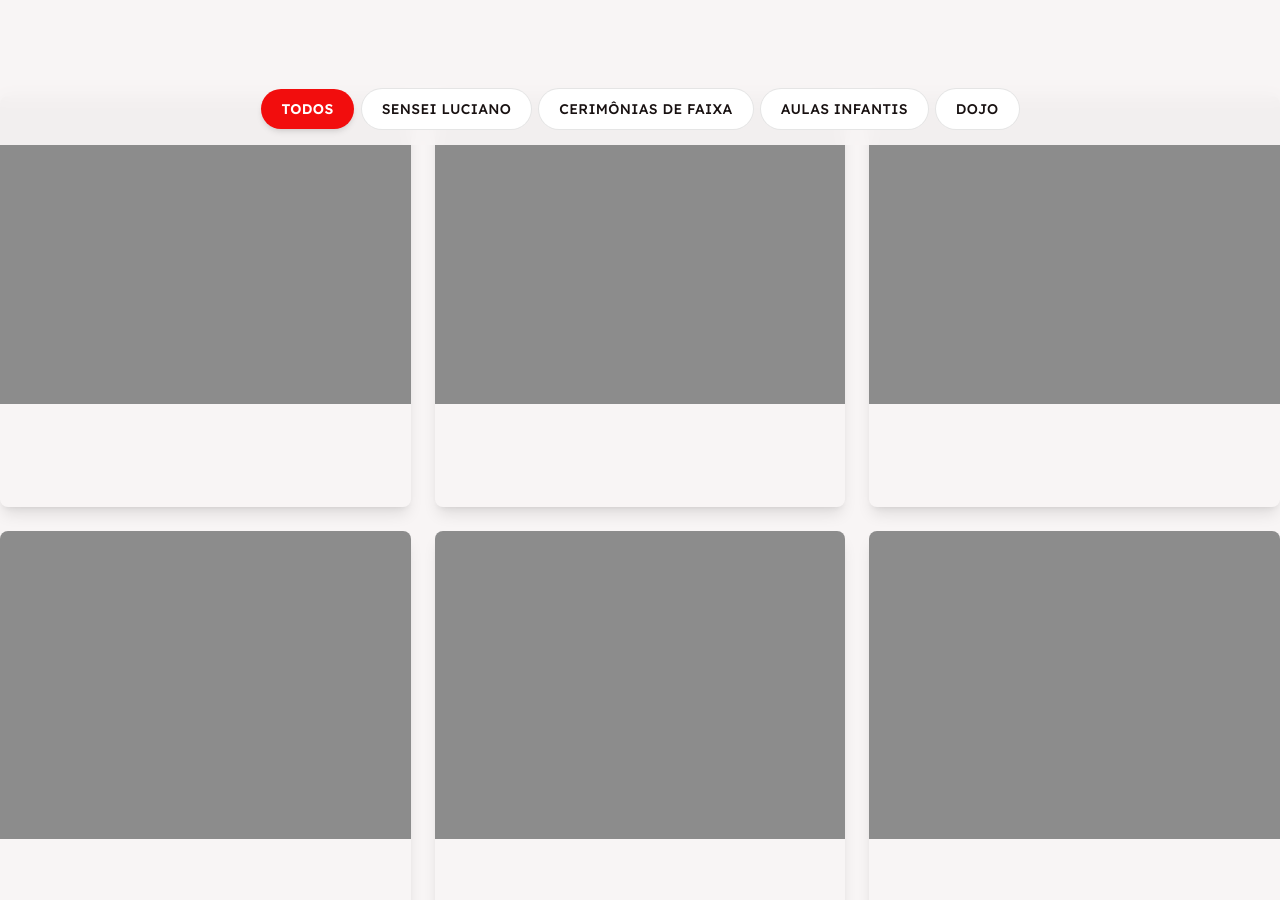
Test: GalleryMasonryGrid › after clicking Todos, all items return
Click the button with aria-label "mostrar aulas infantis": (844, 109) [761,89,928,129]
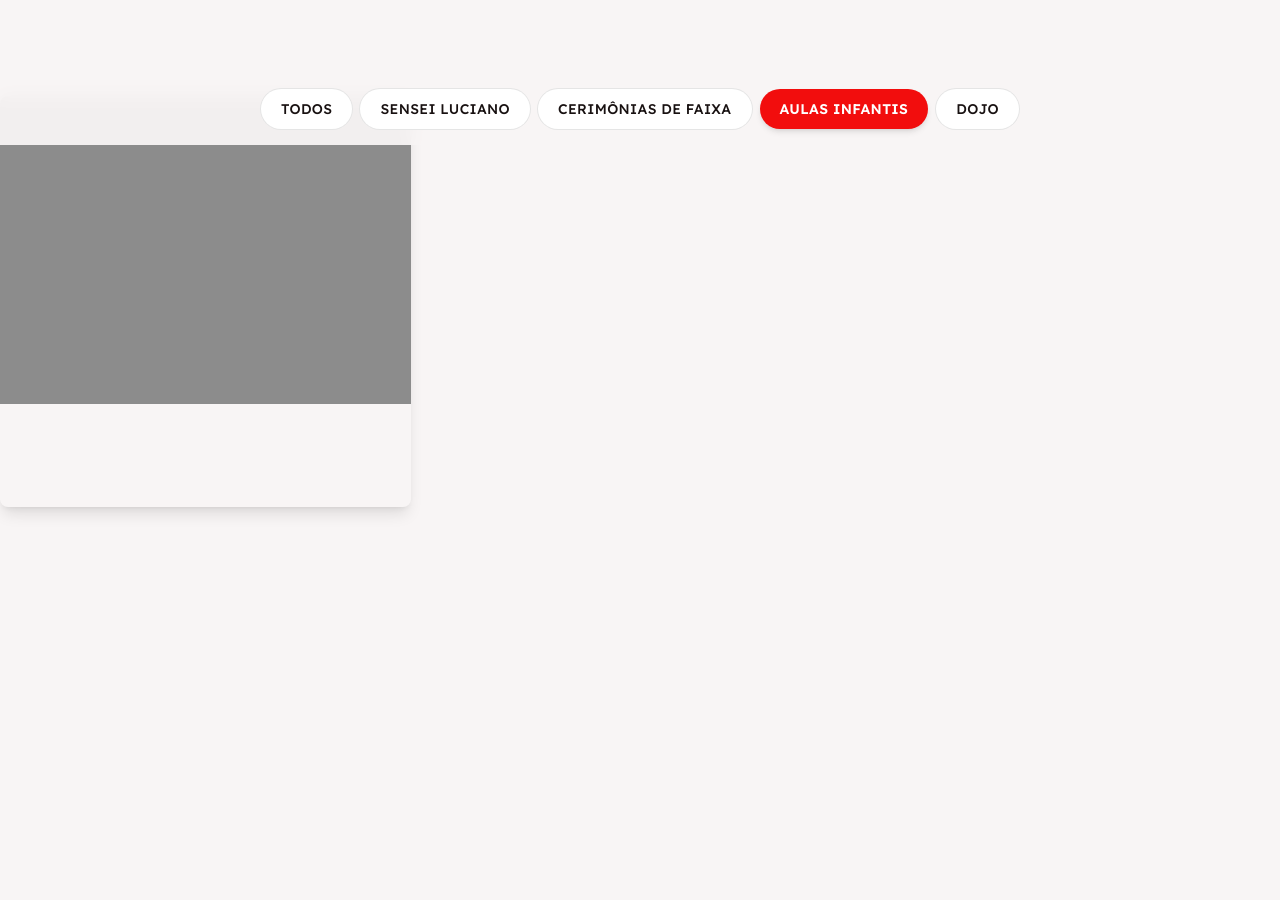
Click the button with aria-label "mostrar todos": (307, 109) [261,89,352,129]
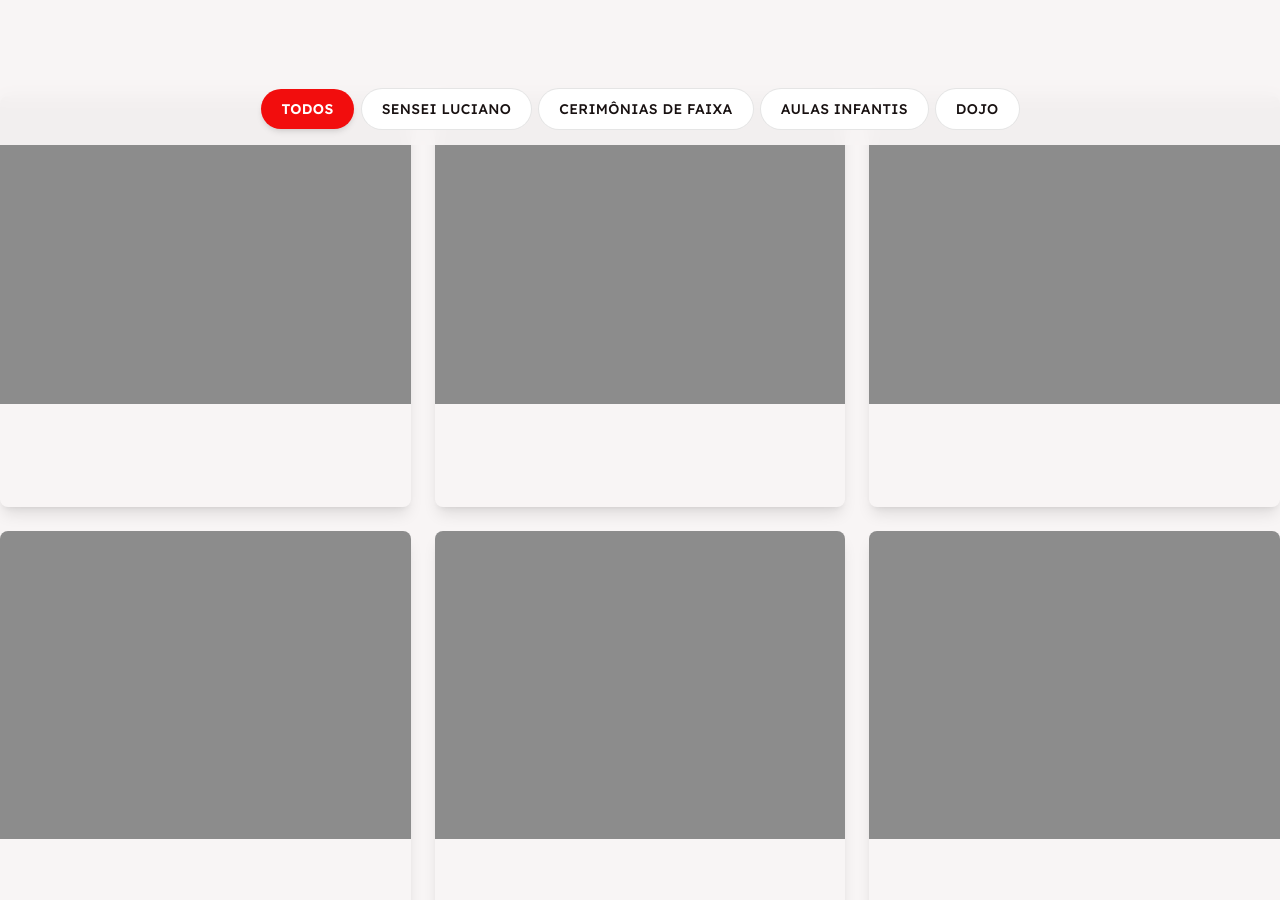
Now the number of elements with class "masonry-item" is 8
